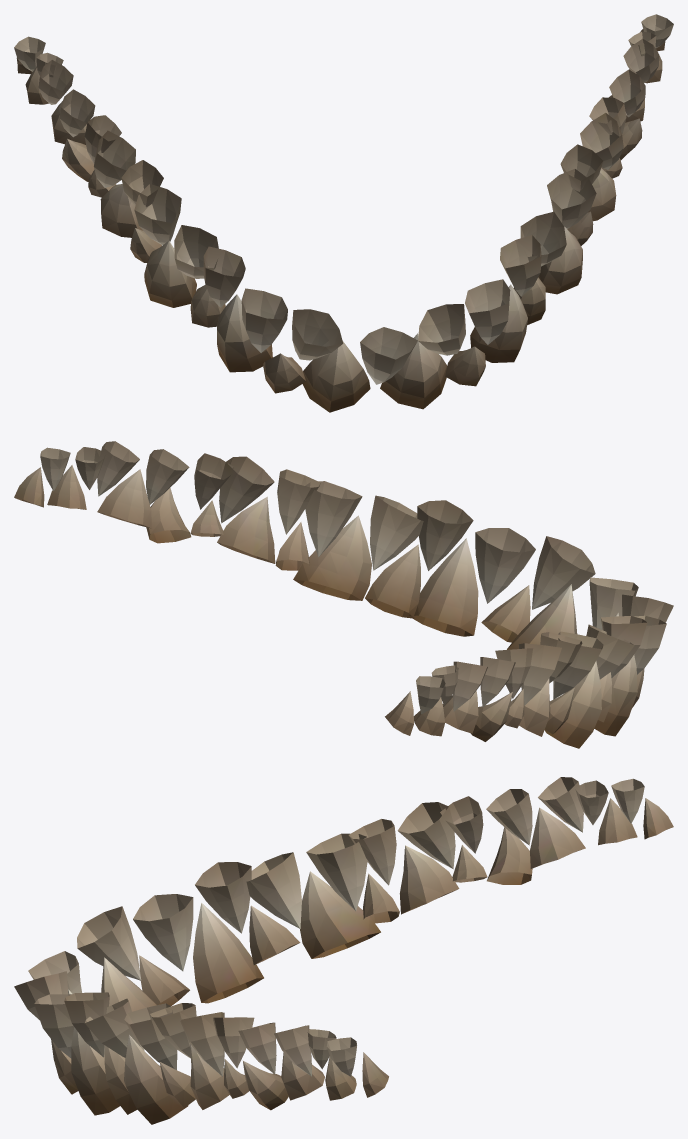
File: mesh1.dat.obj
The picture shows the model from 3 angles, top to bottom: view 1: azimuth 30°, elevation 25°; view 2: azimuth 150°, elevation 25°; view 3: azimuth 270°, elevation 25°; orthographic projection. The views are drawn at different scales.
Parts seen in each view (by area): view 1: Body_Teeth; view 2: Body_Teeth; view 3: Body_Teeth.
Boxes of the visible parts, x1,y1,x2,y2 form: Body_Teeth: [14, 14, 673, 412]; Body_Teeth: [14, 441, 673, 748]; Body_Teeth: [14, 777, 673, 1124].
Size of the model in its own units: 0.8832 by 0.3359 by 0.8631.
1 material, 1 textured.
